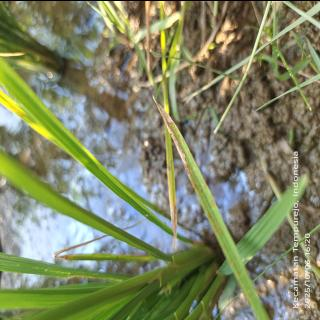Hawar-Daun: (156, 103, 190, 173)
